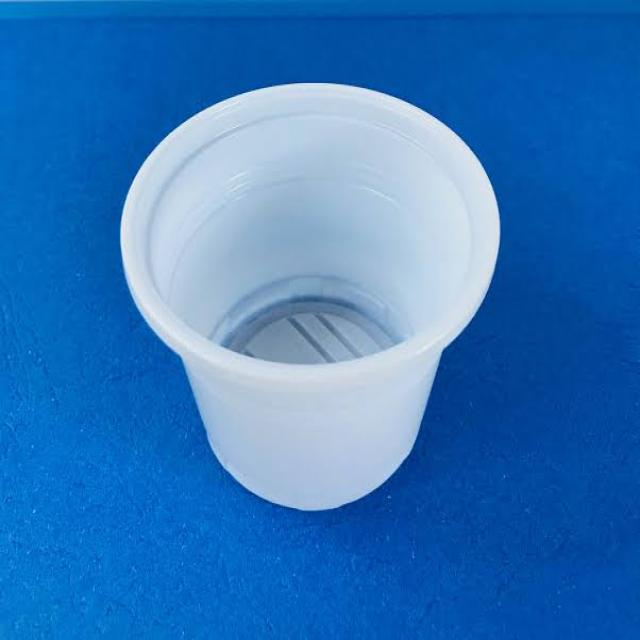plastic cup: (104, 49, 522, 544)
